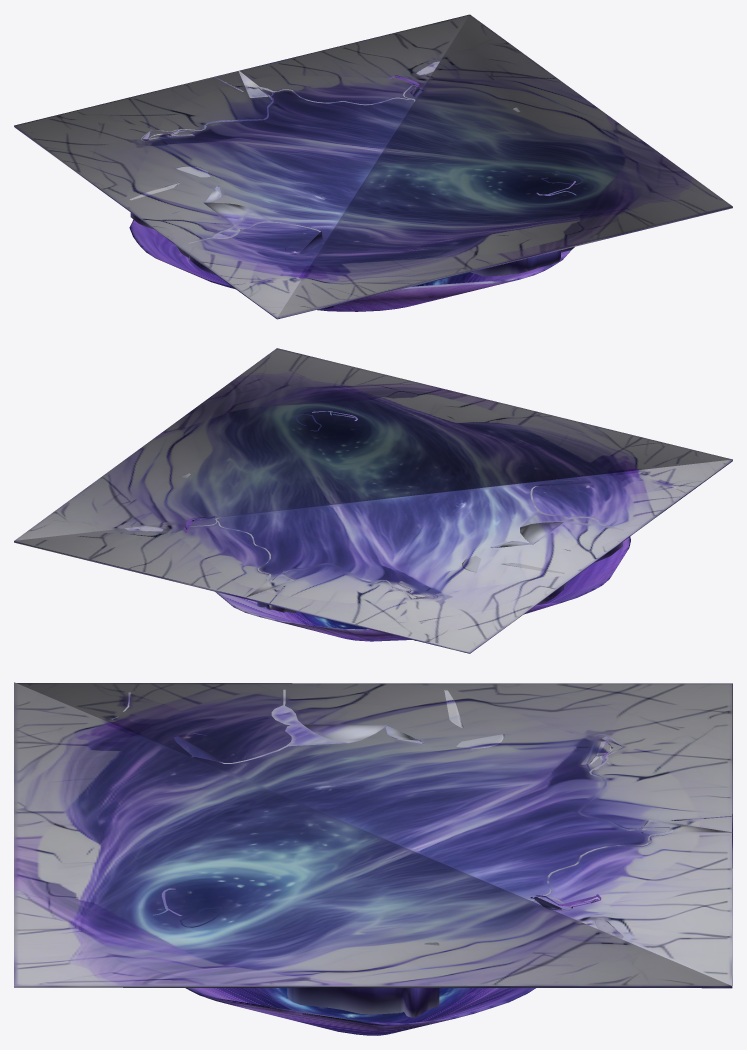
The model's file is stage10_singularity_20260527.glb.
The picture shows the model from 3 angles, top to bottom: view 1: azimuth 30°, elevation 25°; view 2: azimuth 150°, elevation 25°; view 3: azimuth 270°, elevation 25°; orthographic projection. The views are drawn at different scales.
Parts seen in each view (by area): view 1: material; view 2: material; view 3: material.
Boxes of the visible parts, x1,y1,x2,y2 form: material: [14, 14, 732, 319]; material: [14, 348, 732, 653]; material: [14, 682, 732, 1035].
Size of the model in its own units: 1.9 by 0.4892 by 1.9.
1 material, 1 textured.
